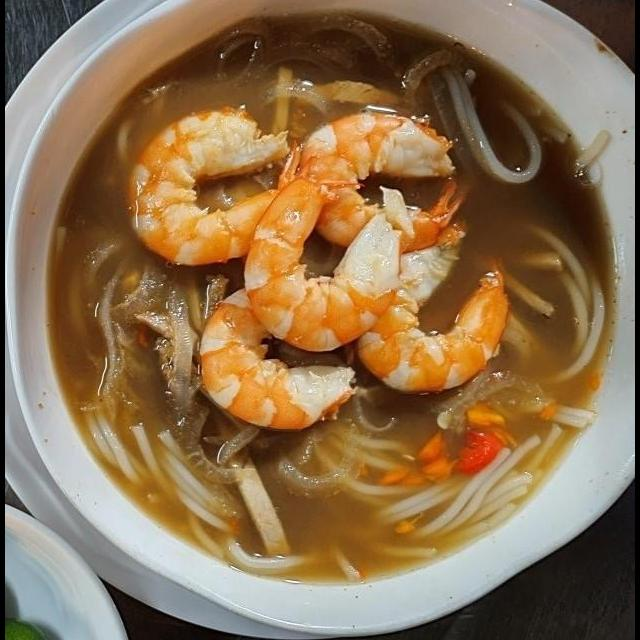bun: (312, 393, 606, 591), (68, 393, 325, 583), (501, 213, 616, 389), (438, 50, 550, 190)
tom: (234, 148, 410, 357), (119, 100, 316, 272), (347, 204, 514, 402), (289, 95, 475, 258), (190, 275, 367, 438)
